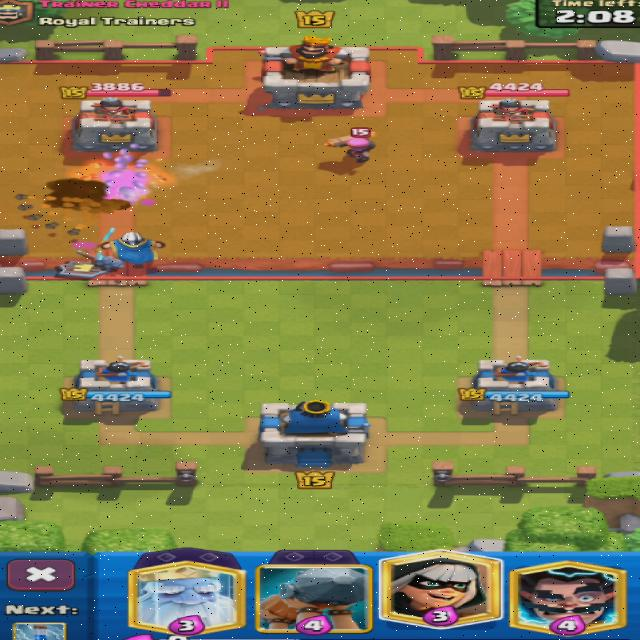Enemy-Firecracker: (327, 131, 374, 162)
Enemy-KingTower: (262, 37, 370, 110)
Enemy-PrincessTower: (470, 98, 556, 152), (72, 98, 157, 151)
Player-KingTower: (258, 400, 370, 466)
Player-MagicArcher: (99, 228, 165, 266)
Player-PrincessTower: (60, 357, 170, 415), (463, 356, 568, 414)
